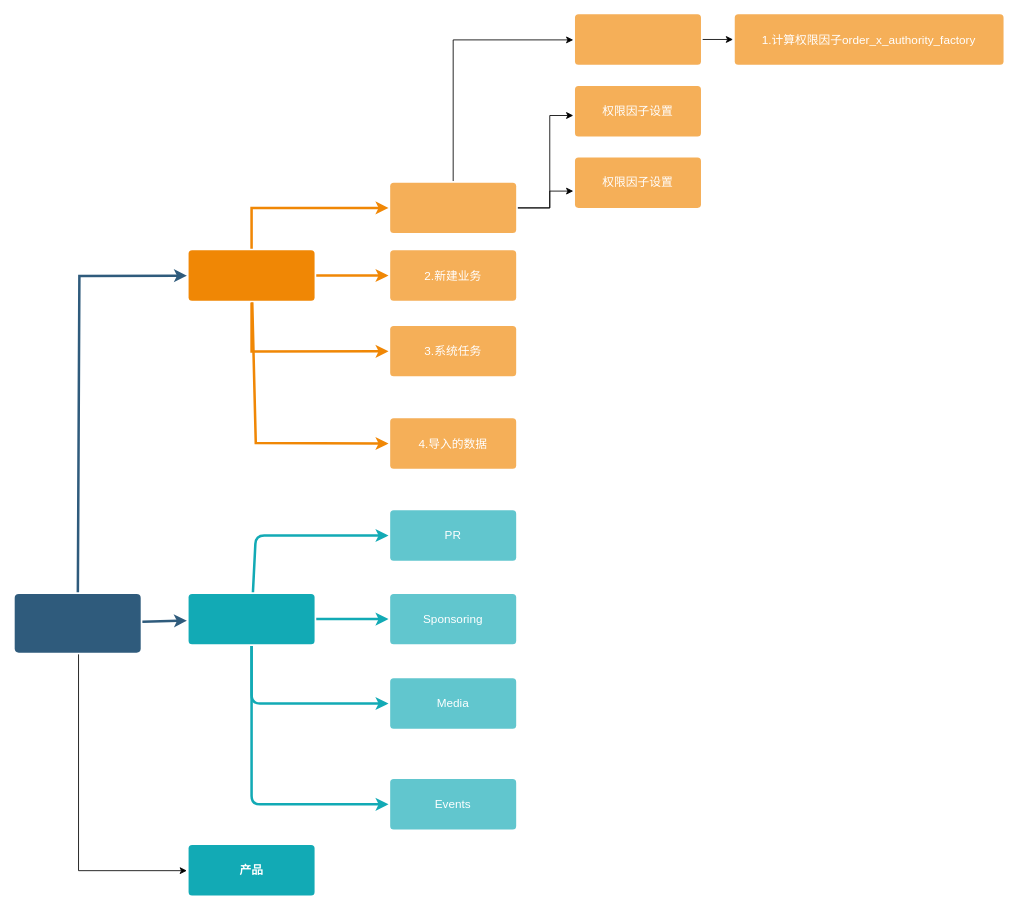
The diagram is 1018 pixels wide and 910 high, and some of its shapes have lost their labels. Here are the shapes that lost their labels. From the top down, the box of each, then its label:
(575, 14, 701, 64): 1.权限因子设置
(390, 182, 516, 233): 1.新建业务
(188, 250, 314, 300): 业务
(14, 593, 140, 652): 权限因子计算
(188, 593, 314, 644): 客户
